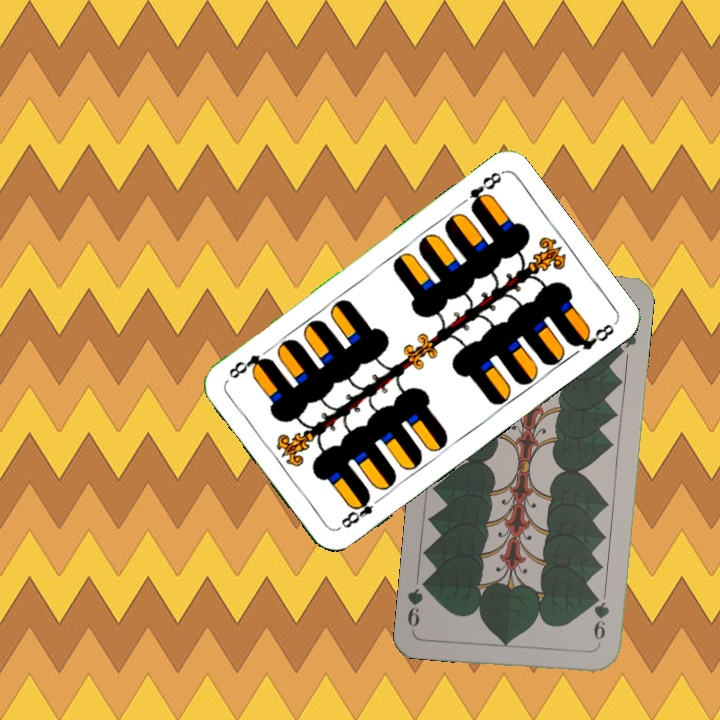E8: (334, 489, 385, 532), (465, 167, 505, 213)
G9: (589, 590, 612, 643)
